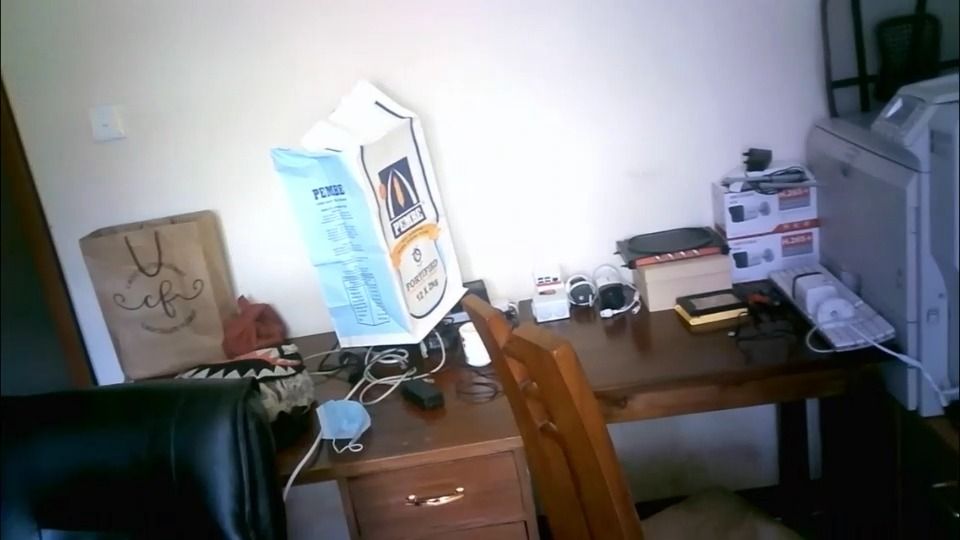wheat_flour_blue_label: (271, 78, 468, 344)
